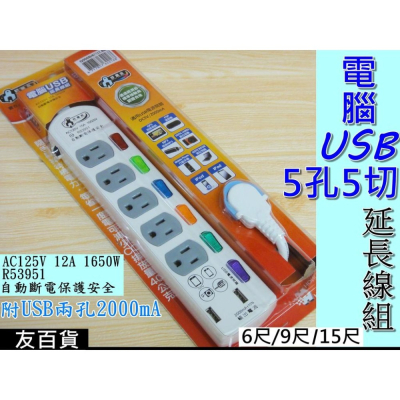socket: (47, 105, 277, 346)
